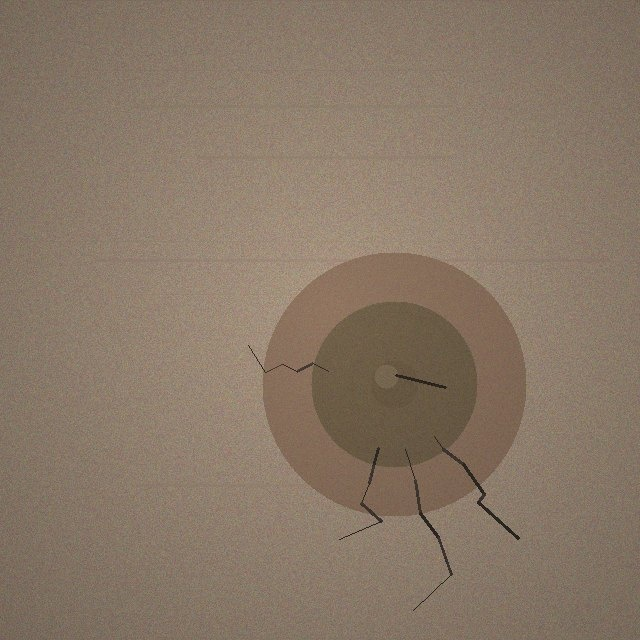crack: (262, 252, 526, 516)
